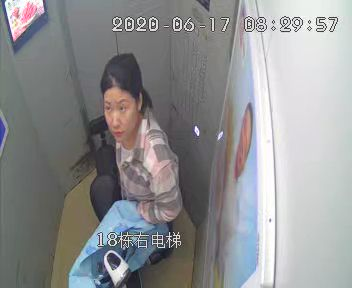Electric-bicycle: (68, 116, 148, 288)
